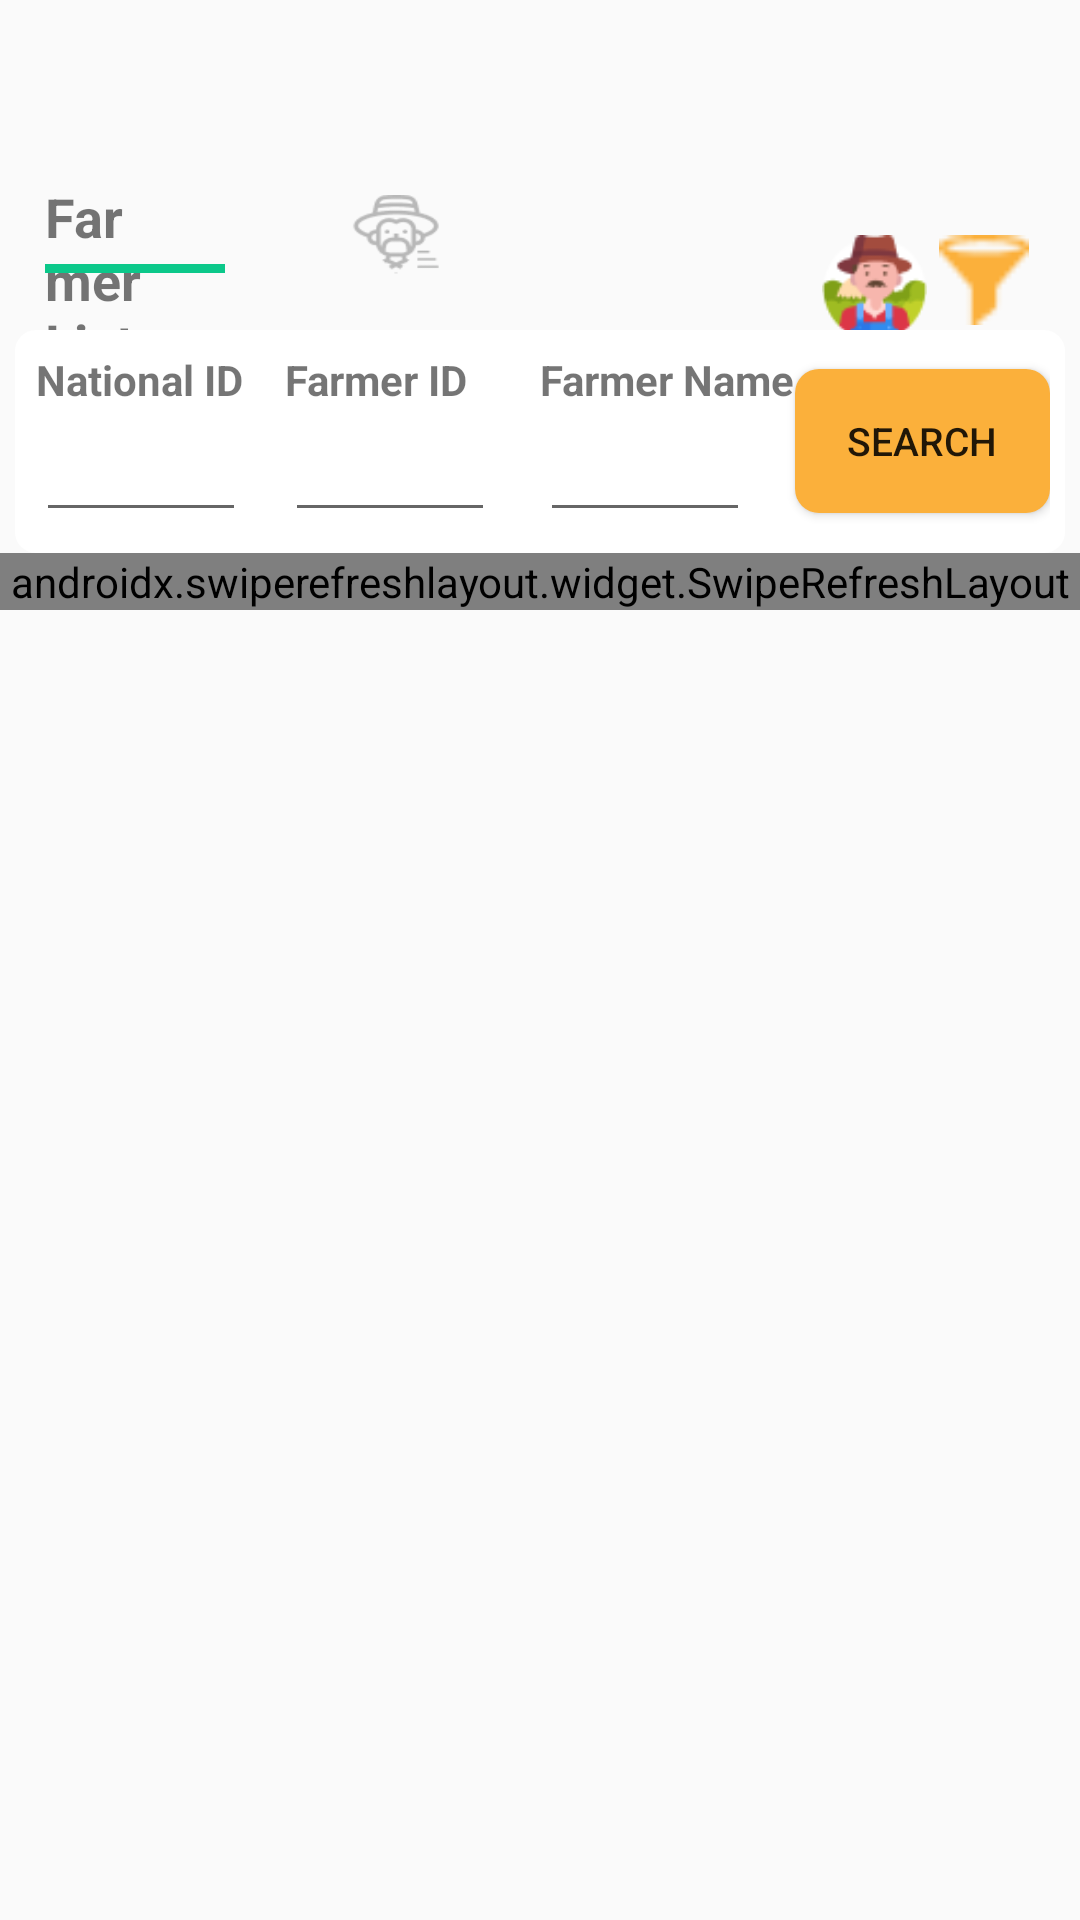

Icons on this 1080x1920 Android screen, each with its box as bbox=[x1, y1, x2, y2]:
addfarmer: bbox=[822, 235, 927, 330]
farmer skeleton: bbox=[353, 195, 439, 269]
filter: bbox=[939, 235, 1029, 325]
